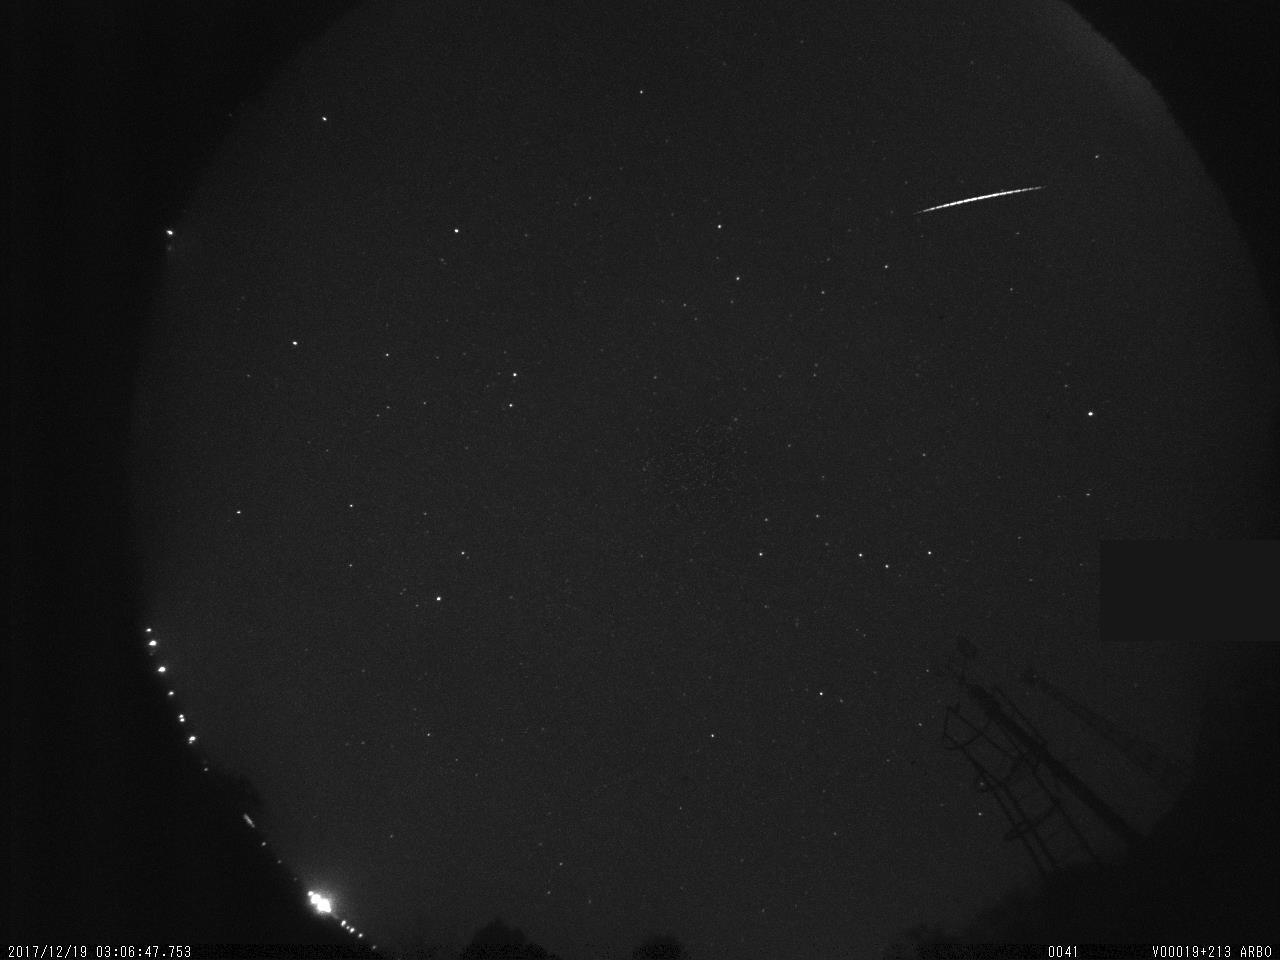Meteor: (911, 179, 1050, 218)
